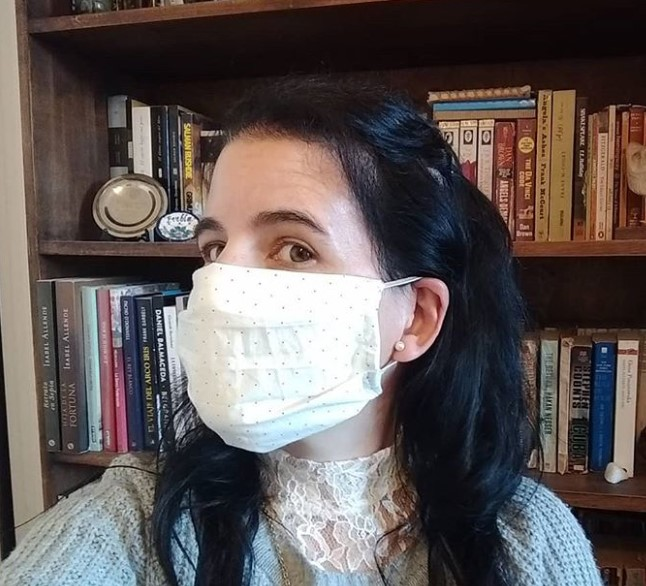face_with_mask: (176, 96, 457, 462)
